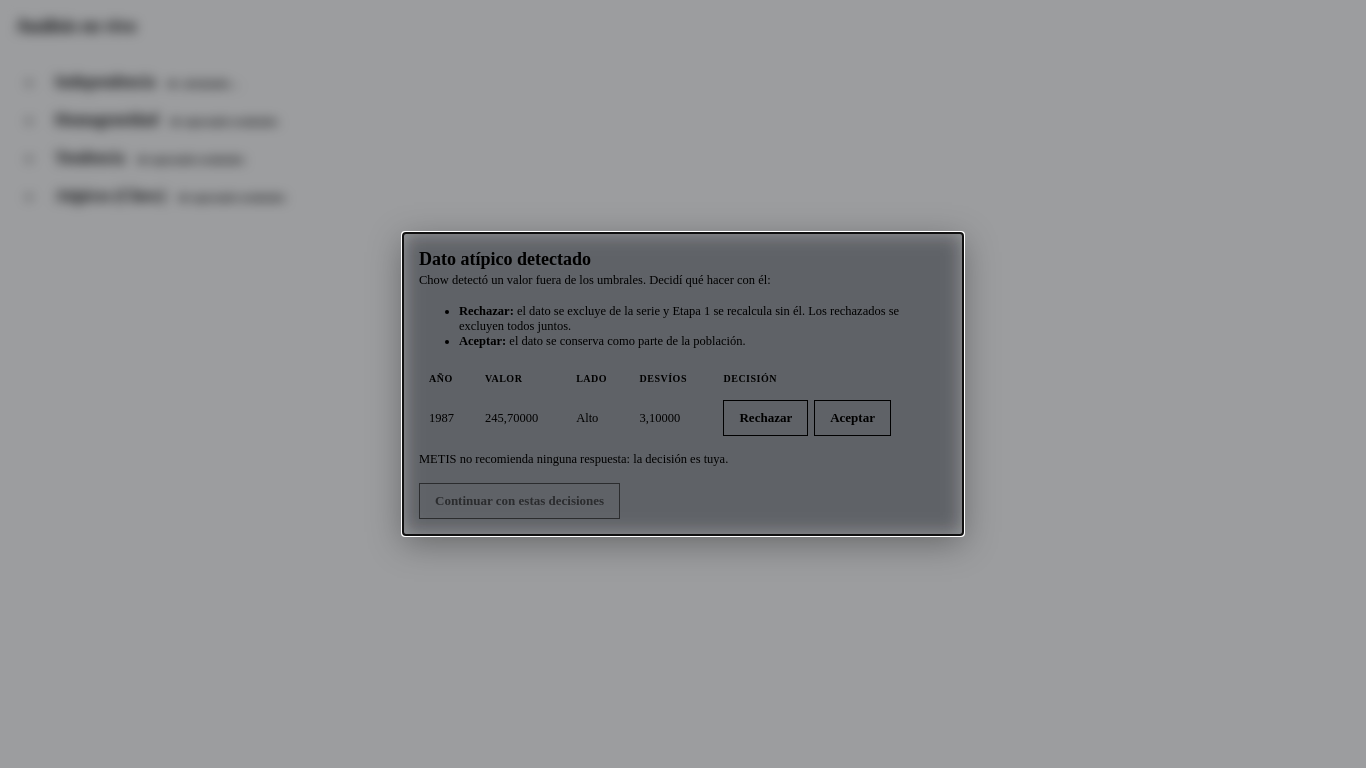
Test: StreamPage — integración de punta a punta (componente + hook reales) › con atípico: pausa, resuelve, y la iteración 2 reemplaza los resultados sin duplicar
Expected: the dialog is shown, x1=403 y1=233 x2=963 y2=535
Expected: the dialog shows "245,70000", x1=485 y1=410 x2=538 y2=424
Click the button "Rechazar" at (766, 418), box x1=724 y1=400 x2=808 y2=436
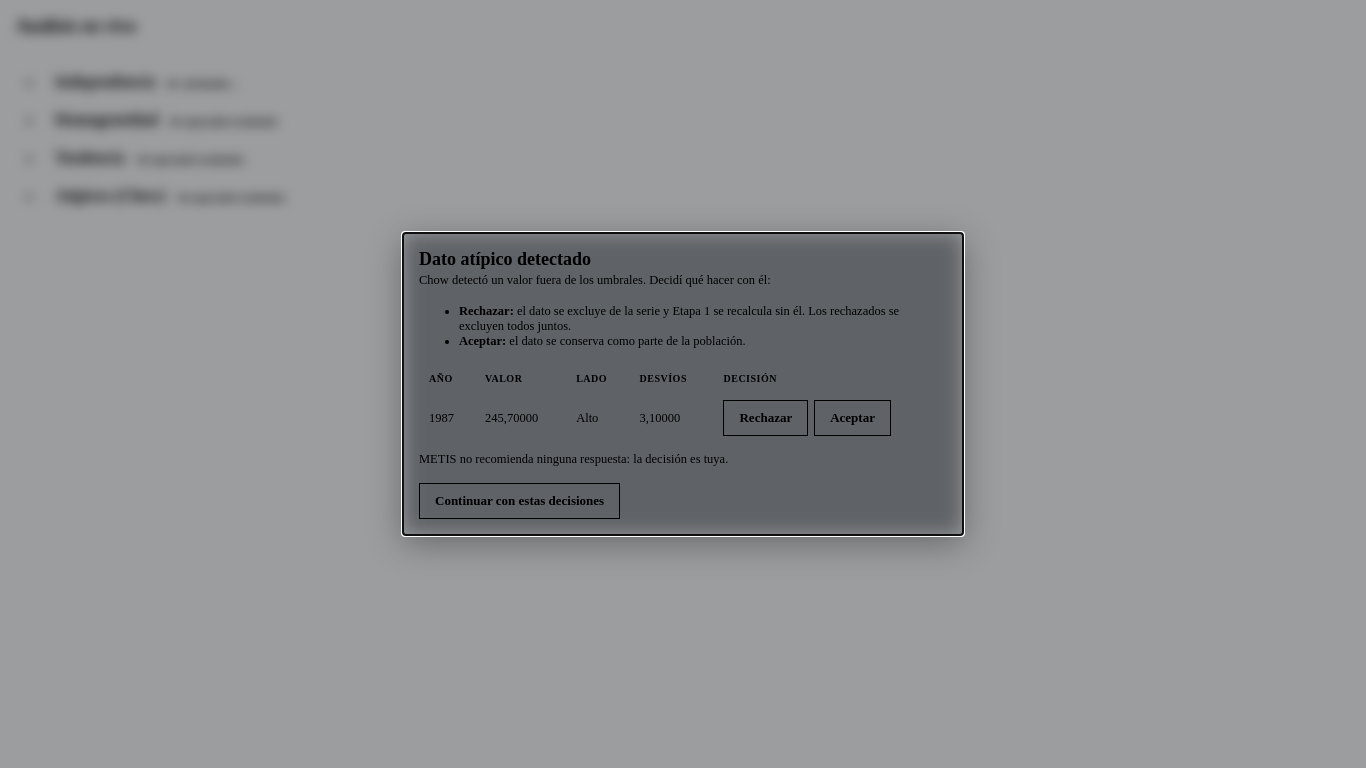
Click the button "Continuar con estas decisiones" at (520, 501), box x1=419 y1=483 x2=620 y2=519
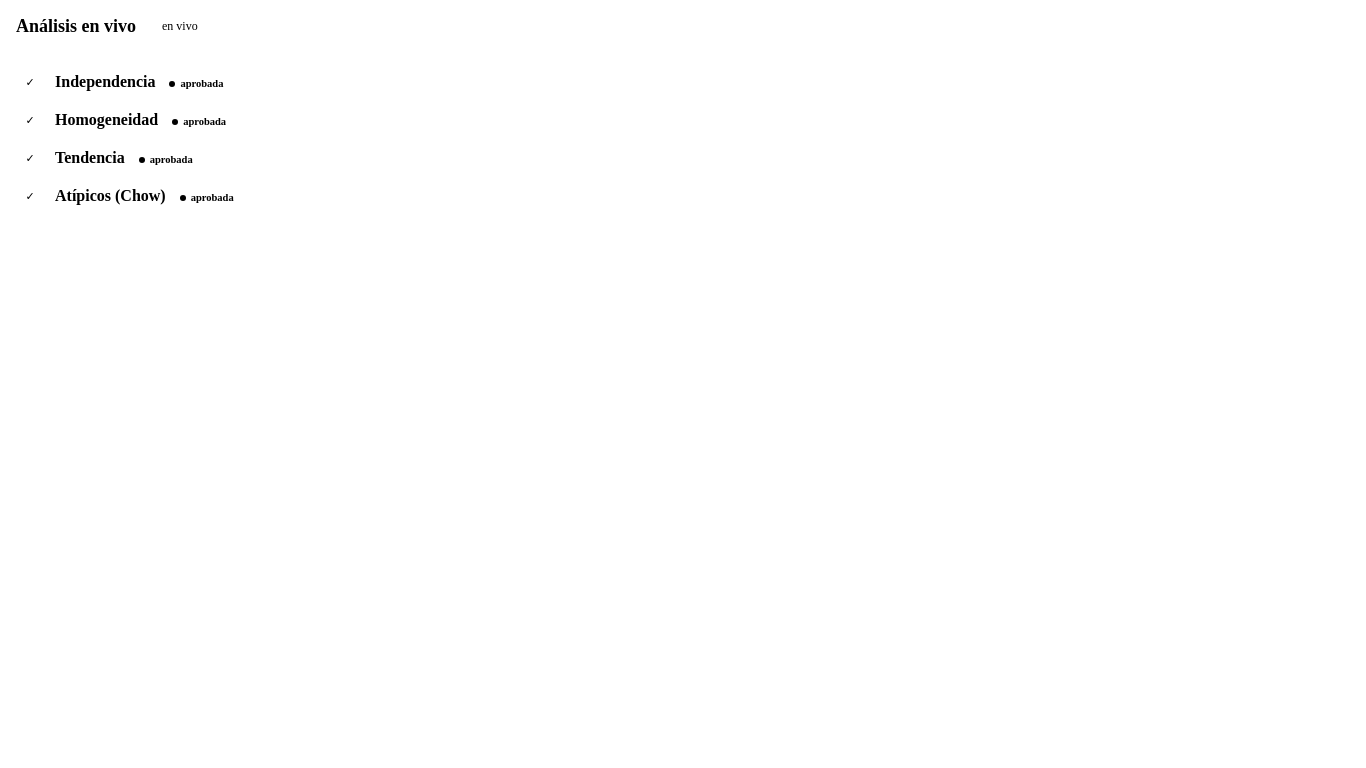
Expected: the dialog is gone
Click the text "Independencia" at (105, 81), box x1=55 y1=73 x2=156 y2=90
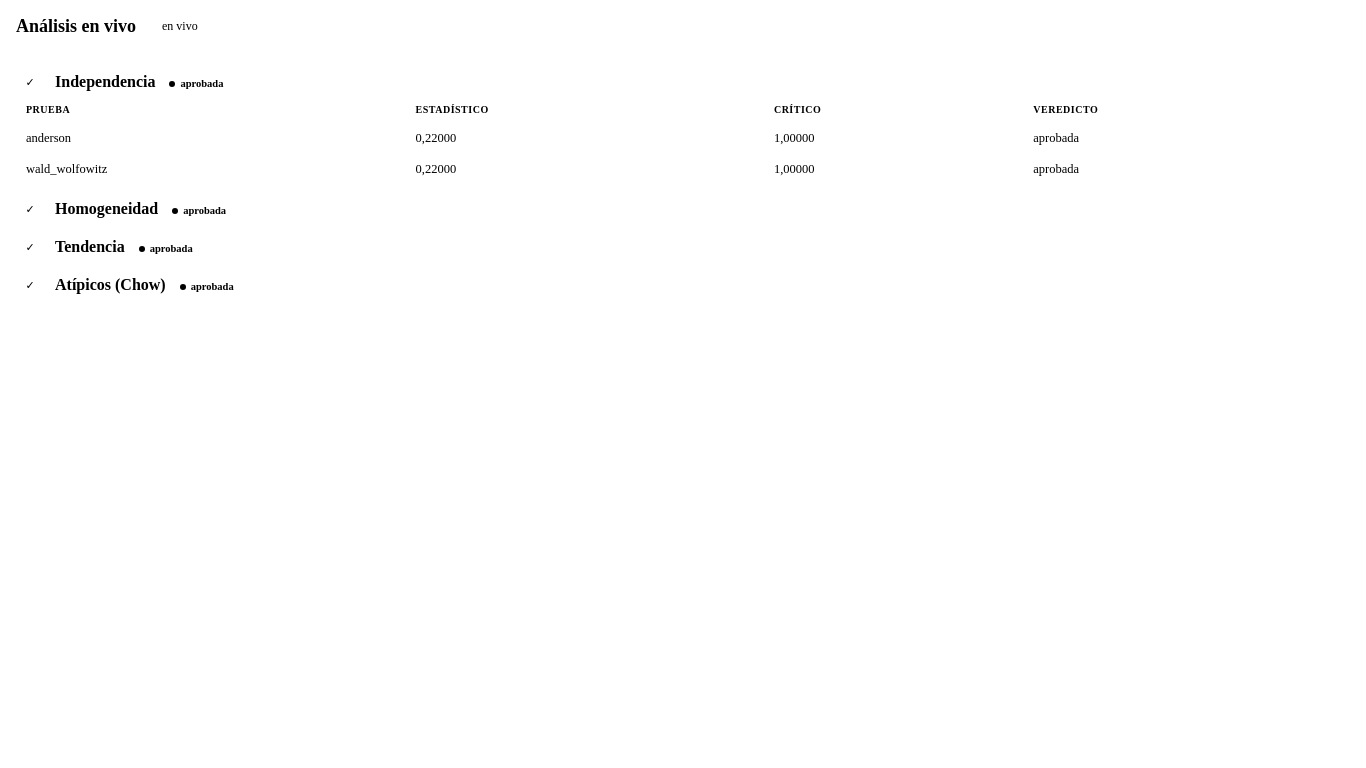
Expected: the text "anderson" is shown once, x1=16 y1=123 x2=406 y2=154
Expected: the text "anderson" shows "0,22000", x1=416 y1=131 x2=456 y2=145
